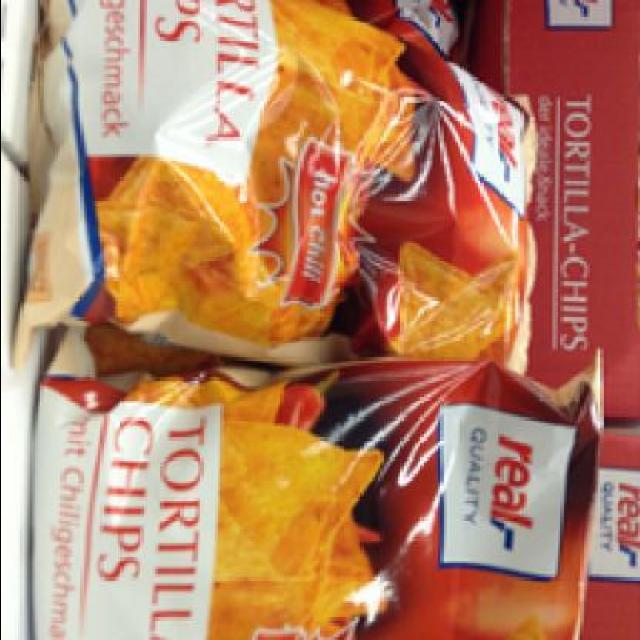Chips: (48, 2, 544, 386), (43, 349, 608, 637)
